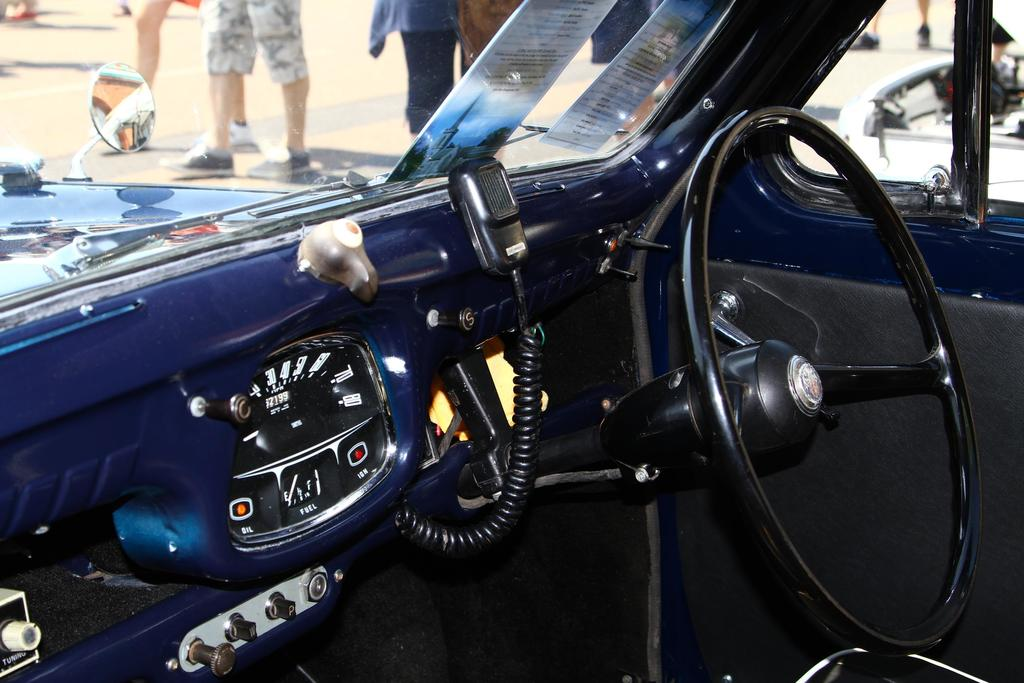Car: (0, 0, 1023, 682), (837, 56, 1023, 199)
